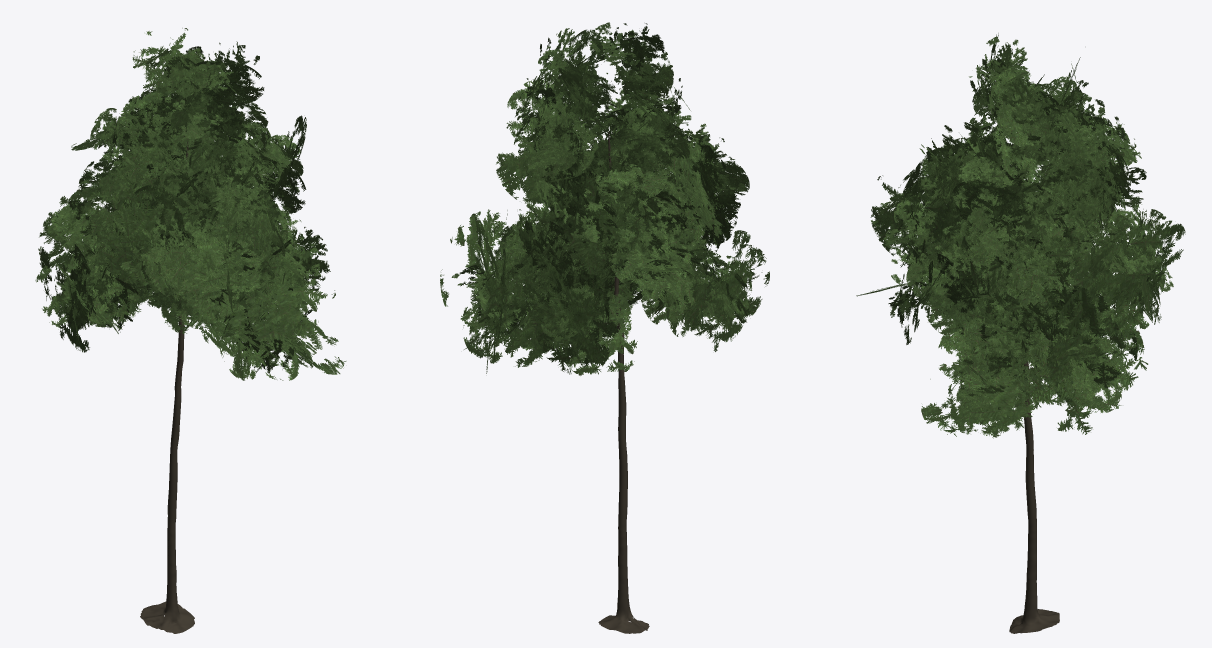
Rendered from las_jodla_c.glb.
3 renders of one model, left to right at view 1: azimuth 30°, elevation 25°; view 2: azimuth 150°, elevation 25°; view 3: azimuth 270°, elevation 25°, orthographic. The views are drawn at different scales.
Parts seen in each view (by area): view 1: liscie_2, liscie_1, liscie_0, pien; view 2: liscie_2, liscie_1, liscie_0, pien; view 3: liscie_2, liscie_1, liscie_0, pien.
Boxes of the visible parts, left/top/right/bottom form: liscie_2: left=38, top=28, right=346, bottom=380; liscie_1: left=35, top=41, right=330, bottom=380; liscie_0: left=46, top=45, right=324, bottom=373; pien: left=140, top=141, right=194, bottom=633; liscie_2: left=440, top=29, right=769, bottom=374; liscie_1: left=459, top=22, right=751, bottom=375; liscie_0: left=451, top=32, right=739, bottom=345; pien: left=598, top=94, right=649, bottom=633; liscie_2: left=856, top=54, right=1185, bottom=438; liscie_1: left=880, top=33, right=1169, bottom=435; liscie_0: left=888, top=44, right=1173, bottom=420; pien: left=1009, top=136, right=1059, bottom=633.
Size of the model in its own units: 8.66 by 15.25 by 8.48.
2 materials, 2 textured.
